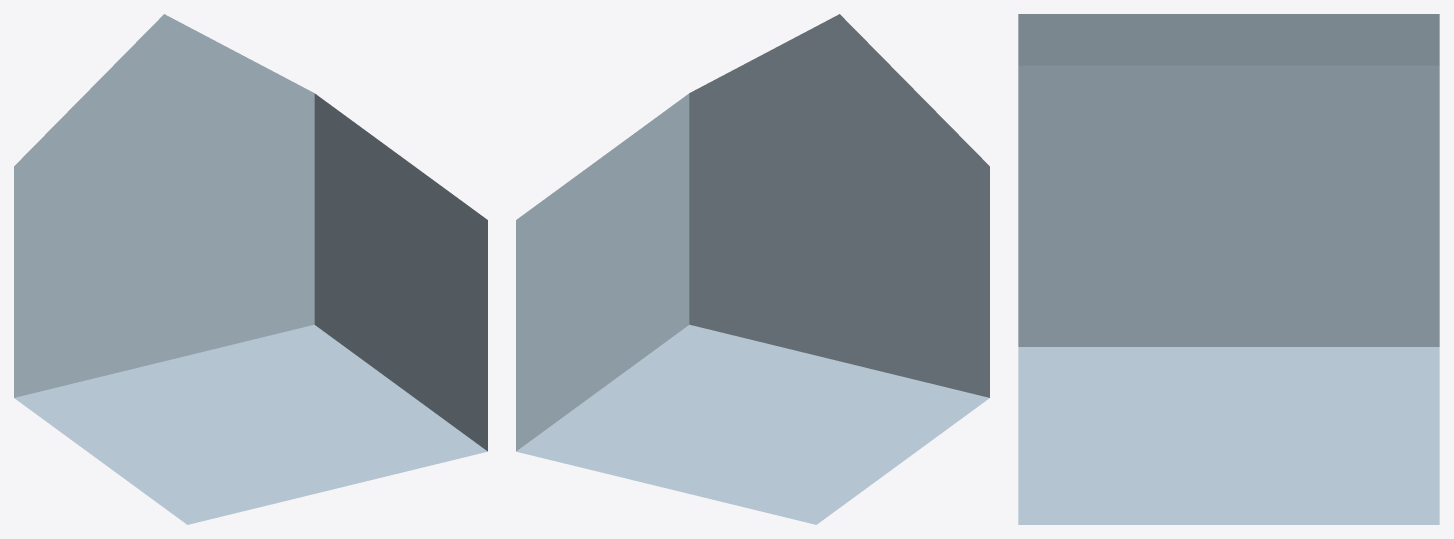
The model's file is penthouse-glass.gltf.
3 renders of one model, left to right at view 1: azimuth 30°, elevation 25°; view 2: azimuth 150°, elevation 25°; view 3: azimuth 270°, elevation 25°, orthographic. The views are drawn at different scales.
Bounding box in the file's own units: 2.2 × 2.43 × 2.2.
